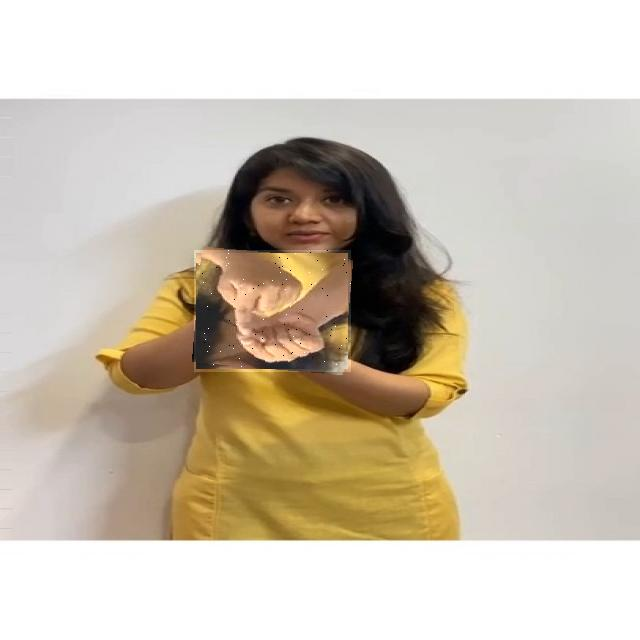I: (194, 250, 351, 372)
